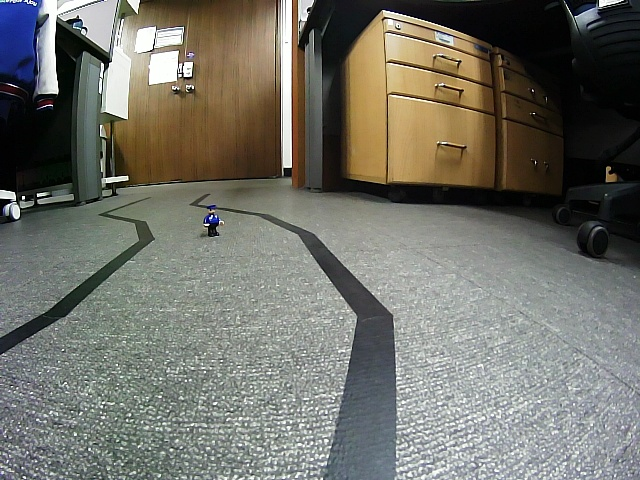person: (203, 204, 225, 237)
